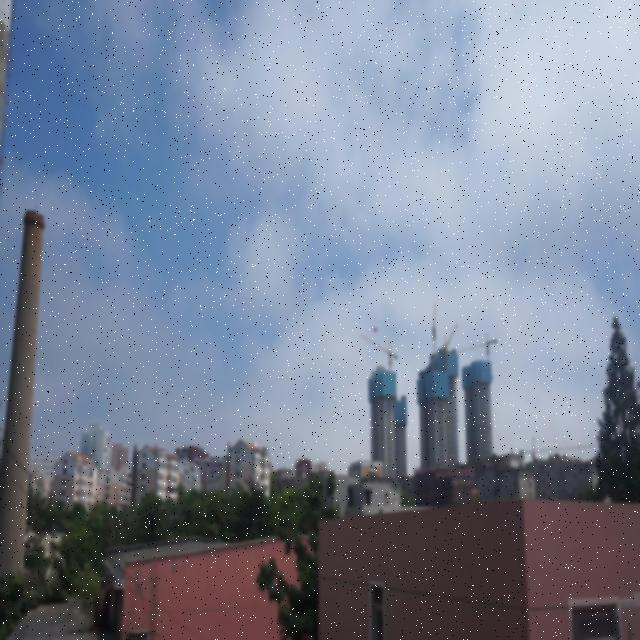UAV: (372, 327, 379, 333)
